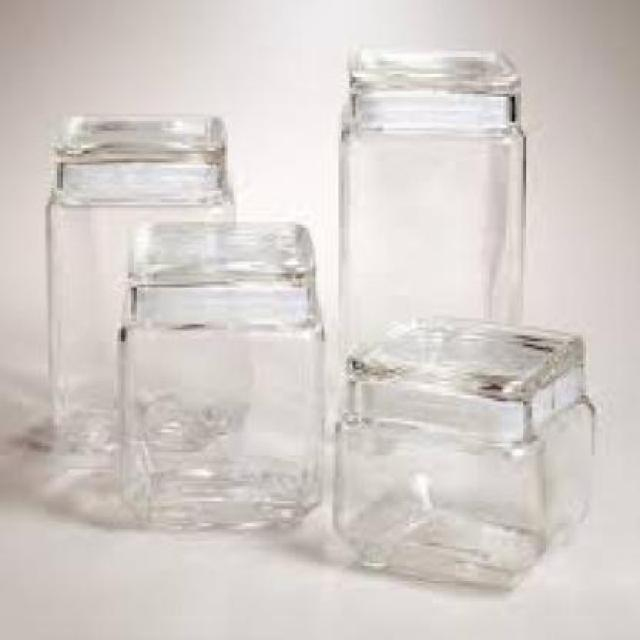GLASS: (336, 42, 526, 464), (332, 312, 603, 586), (40, 105, 231, 464), (113, 216, 324, 530)
